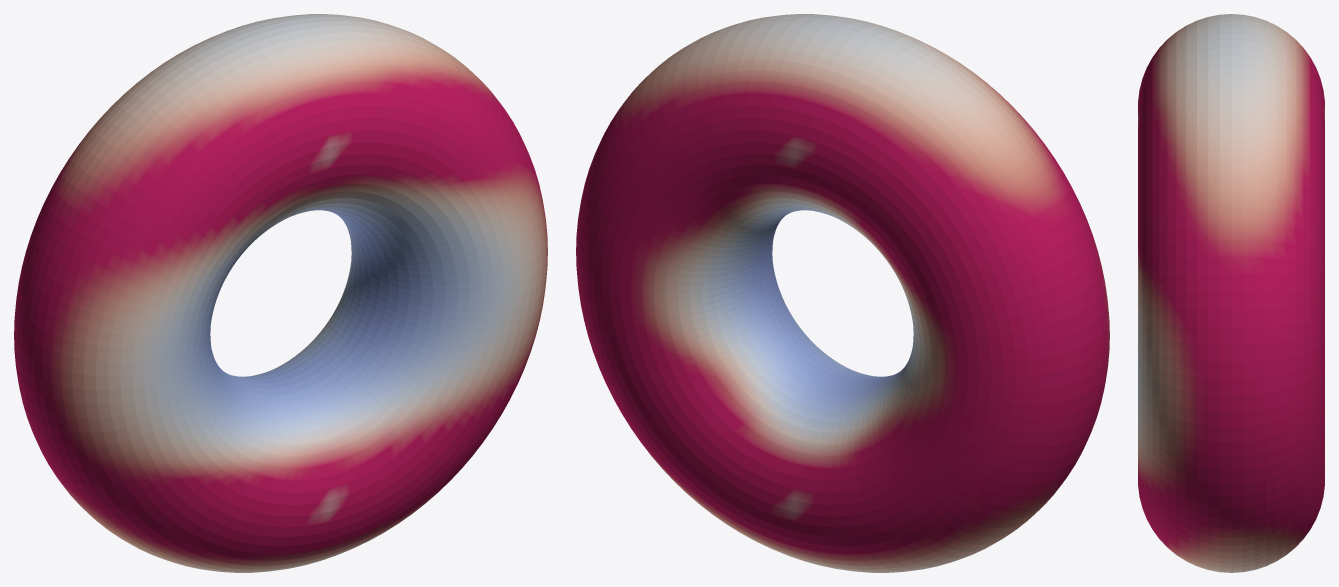
The picture shows the model from 3 angles, left to right: view 1: azimuth 30°, elevation 25°; view 2: azimuth 150°, elevation 25°; view 3: azimuth 270°, elevation 25°; orthographic projection. The views are drawn at different scales.
Visible parts, largest first — view 1: world; view 2: world; view 3: world.
Part boxes in pixels (left/top/right/bottom): world: left=14, top=14, right=547, bottom=572; world: left=576, top=14, right=1109, bottom=572; world: left=1138, top=14, right=1324, bottom=572.
Bounding box in the file's own units: 25.07 × 25.07 × 8.38.
